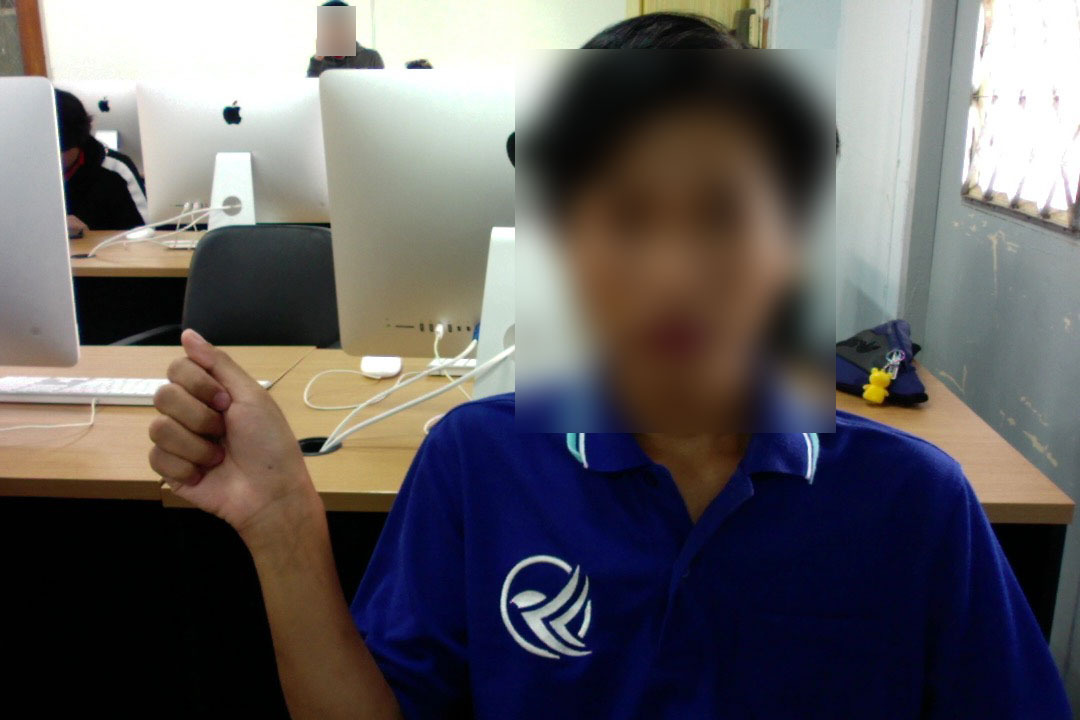or: (143, 315, 324, 541)
